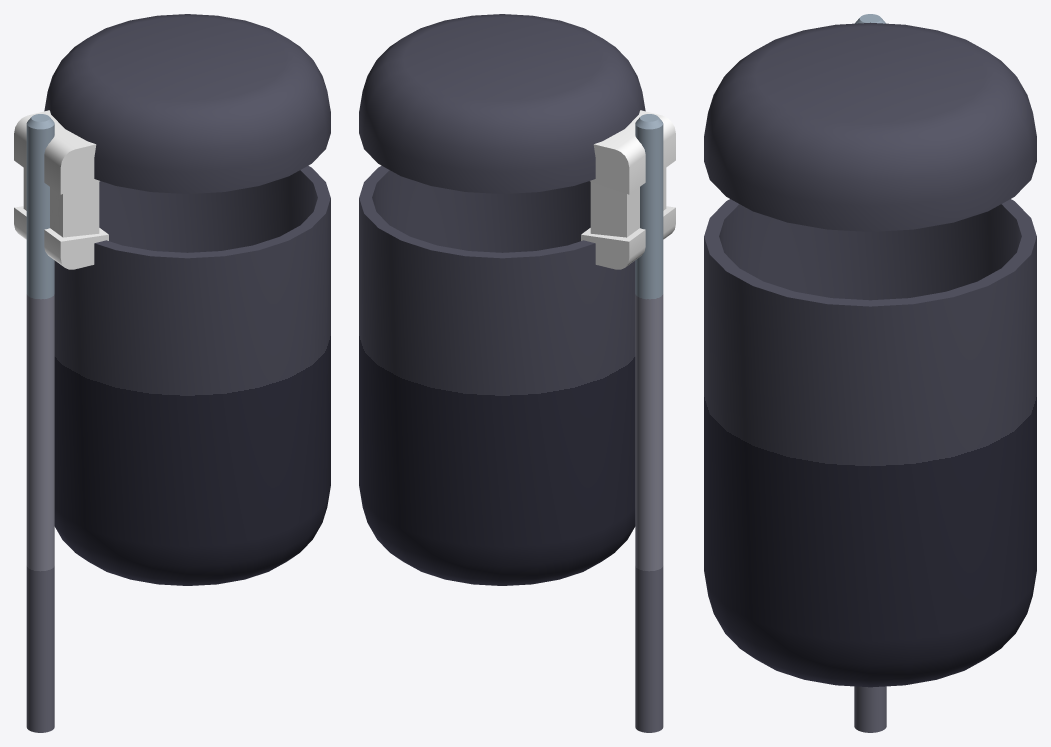
File: cesto_basur.fbx
3 renders of one model, left to right at view 1: azimuth 30°, elevation 25°; view 2: azimuth 150°, elevation 25°; view 3: azimuth 270°, elevation 25°, orthographic. The views are drawn at different scales.
Parts seen in each view (by area): view 1: cesto_basur; view 2: cesto_basur; view 3: cesto_basur.
Part boxes in pixels (x1,y1,x2,y2): cesto_basur: [14, 14, 330, 732]; cesto_basur: [359, 14, 675, 732]; cesto_basur: [704, 14, 1036, 732].
Size of the model in its own units: 117 by 249 by 102.
